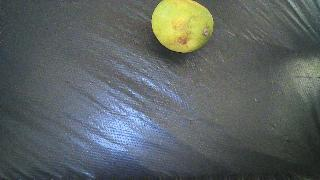DESECHO: (151, 0, 214, 53)
